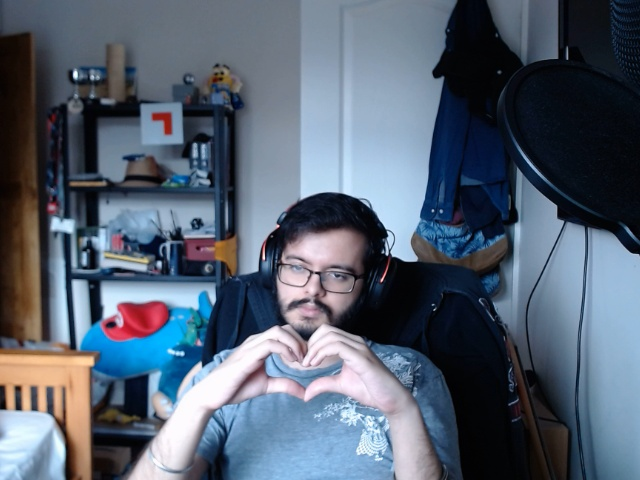Heart: (207, 322, 394, 411)
